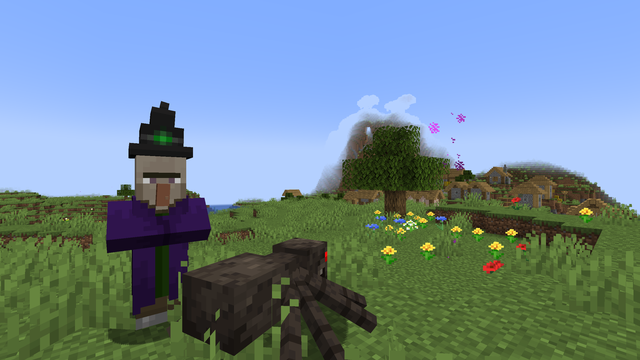araignees: (194, 227, 367, 356)
sorcieres: (126, 147, 194, 341)
